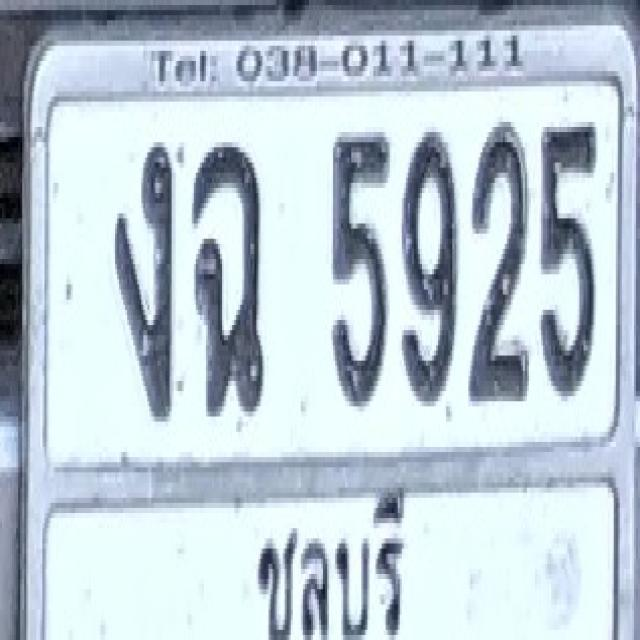-: (192, 140, 264, 414), (113, 140, 174, 419)
2: (468, 122, 529, 396)
5: (330, 127, 389, 406), (540, 119, 597, 394)
9: (402, 127, 456, 401)
